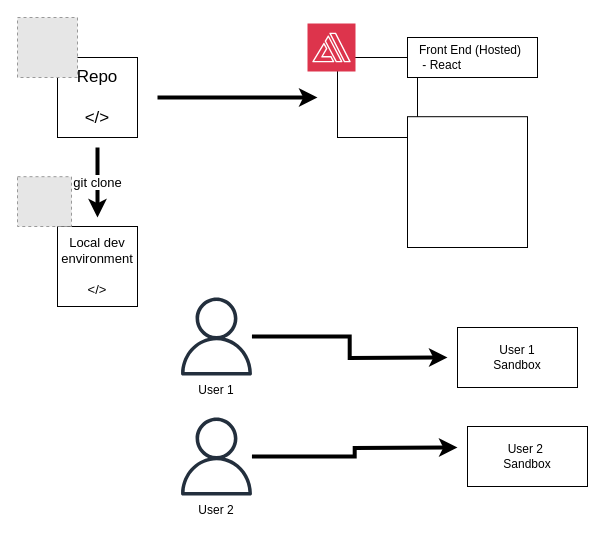
Image size: 605x543. Some labels were removed from this diagram. Grey dashed boxes stand in for pictures. Each missing label, with the centre of its shape:
"AWS cloud </>" goes at [377,97].
"Back End - Dynamo DB - Cognito - Lambda - APIs" goes at [467,182].
